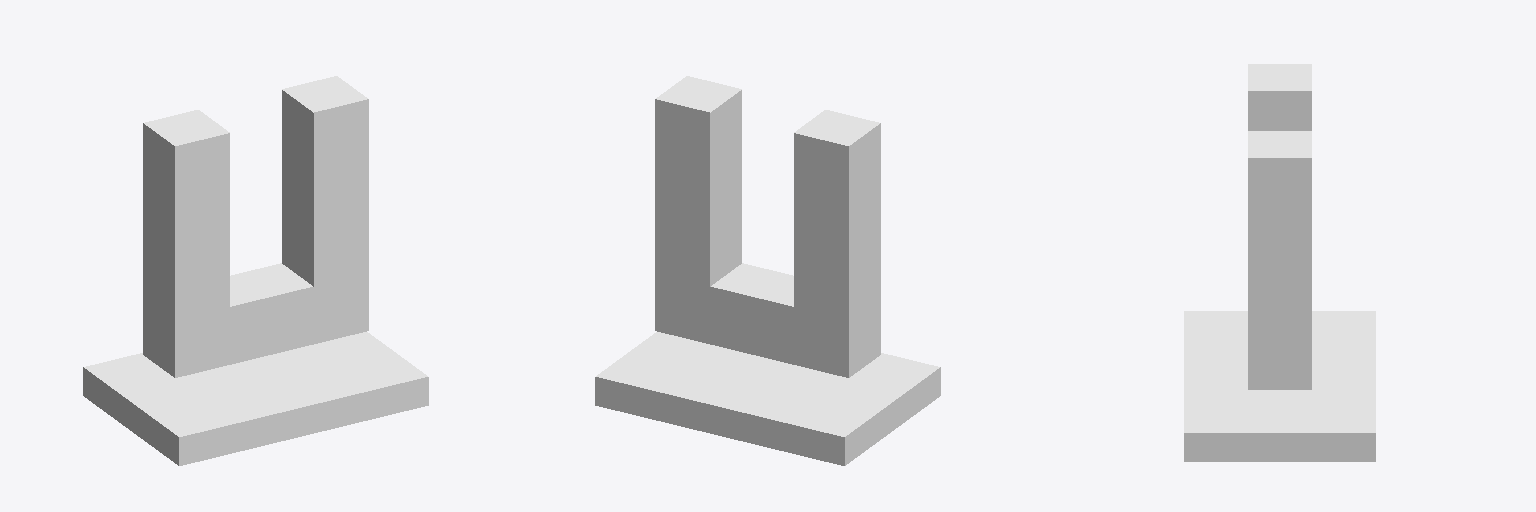
Rendered from toy-store-0-u.obj.
3 views of the same model, side by side, from view 1: azimuth 30°, elevation 25°; view 2: azimuth 150°, elevation 25°; view 3: azimuth 270°, elevation 25° (orthographic).
Visible parts, largest first — view 1: u; view 2: u; view 3: u.
Boxes of the visible parts, x1,y1,x2,y2 form: u: [83, 76, 428, 465]; u: [595, 76, 940, 465]; u: [1184, 64, 1375, 461].
Size of the model in its own units: 0.9 by 1 by 0.6.